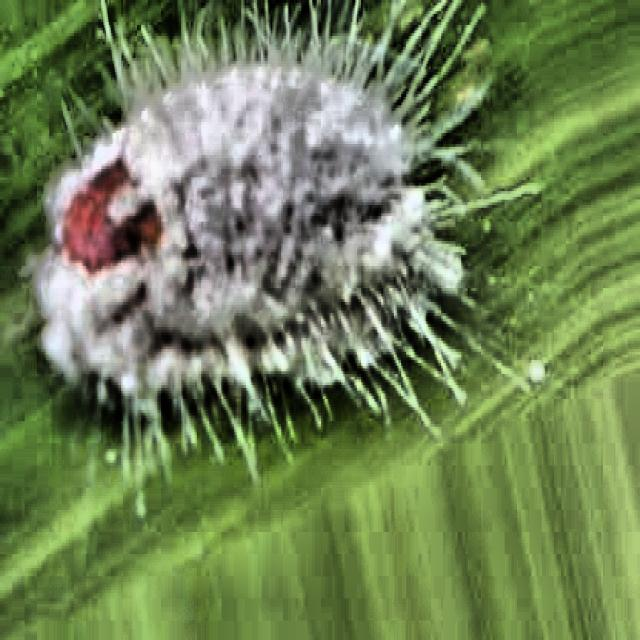Mealy-bug: (11, 3, 485, 455)
